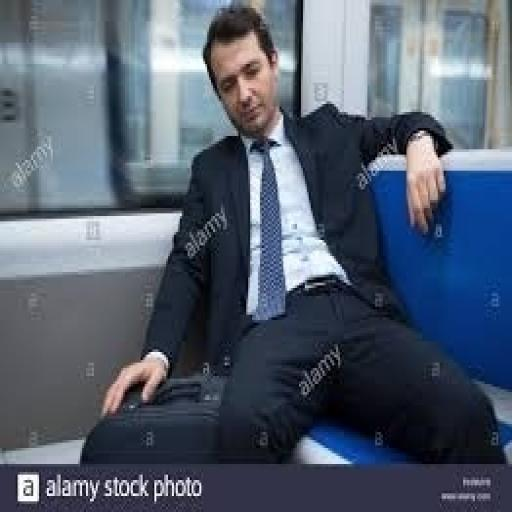sleeping: (86, 2, 506, 466)
